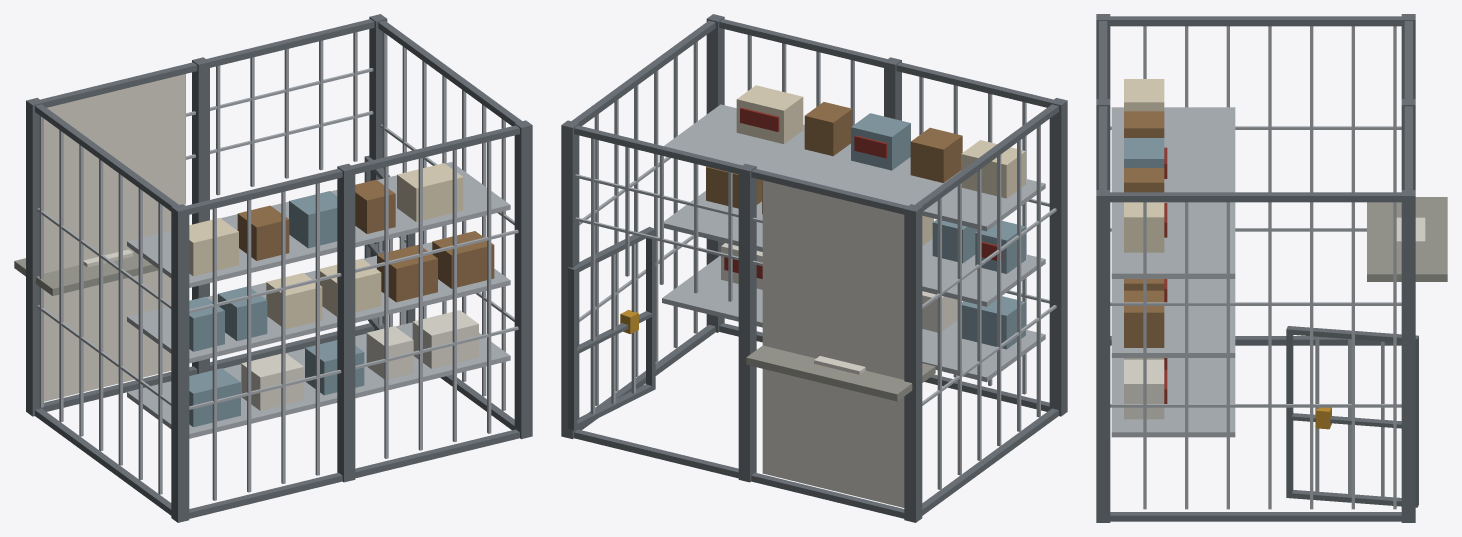
Rendered from pharmacy_cage.glb.
3 views of the same model, side by side, from view 1: azimuth 30°, elevation 25°; view 2: azimuth 150°, elevation 25°; view 3: azimuth 270°, elevation 25° (orthographic). The views are drawn at different scales.
Parts seen in each view (by area): view 1: pharmacy_cage; view 2: pharmacy_cage; view 3: pharmacy_cage.
Boxes of the visible parts, box(x1,y1,x2,y2) form: pharmacy_cage: box(14, 14, 532, 522); pharmacy_cage: box(561, 14, 1067, 522); pharmacy_cage: box(1096, 14, 1447, 522).
Size of what is drawn, in the model's own units: 3.1 by 2.6 by 2.53.
Materials: 3 (3 with a texture image).
